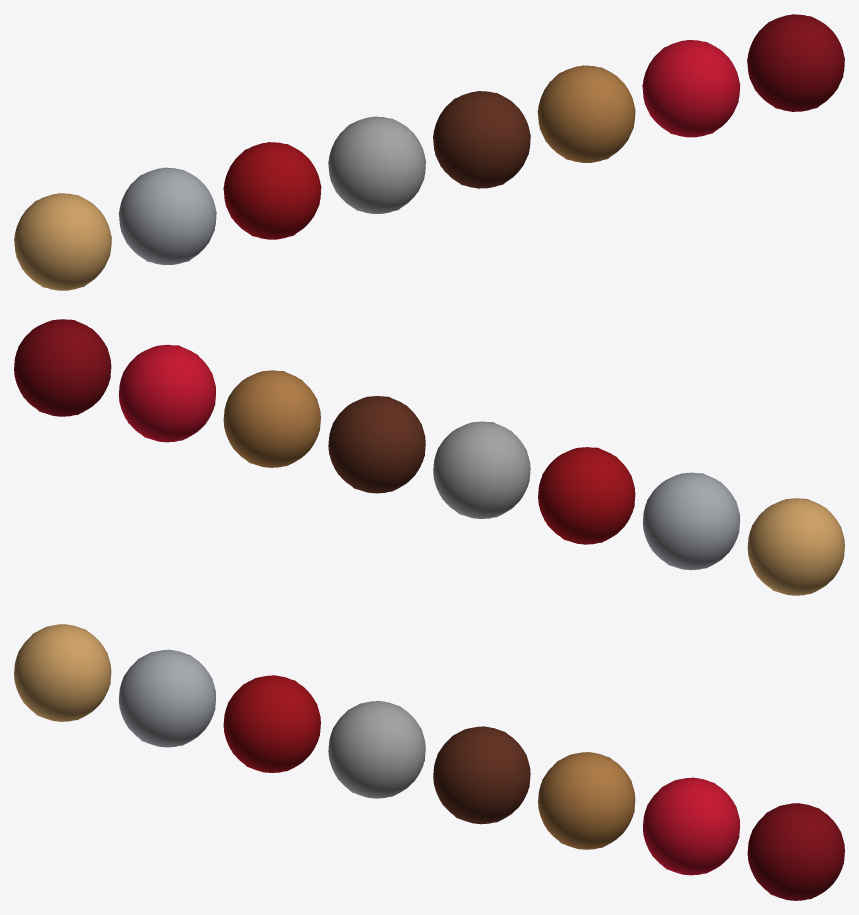
3 renders of one model, top to bottom at view 1: azimuth 30°, elevation 25°; view 2: azimuth 150°, elevation 25°; view 3: azimuth 330°, elevation 25°, orthographic.
Visible parts, largest first — view 1: lacquer (×2), saddle (×2), steel (×2), granite (×2), oak (×2), velvet (×2), ruby (×2), horse (×2); view 2: saddle (×2), horse (×2), oak (×2), granite (×2), lacquer (×2), ruby (×2), velvet (×2), steel (×2); view 3: velvet (×2), saddle (×2), oak (×2), lacquer (×2), steel (×2), ruby (×2), horse (×2), granite (×2).
Part boxes in pixels (x1,y1,x2,y2): lacquer (×2): (223, 142, 321, 239); saddle (×2): (537, 65, 635, 162); steel (×2): (118, 167, 216, 265); granite (×2): (328, 116, 425, 213); oak (×2): (14, 193, 111, 290); velvet (×2): (747, 14, 844, 111); ruby (×2): (642, 40, 740, 137); horse (×2): (433, 91, 530, 188); saddle (×2): (223, 370, 320, 467); horse (×2): (328, 396, 425, 493); oak (×2): (747, 498, 844, 595); granite (×2): (433, 421, 530, 518); lacquer (×2): (538, 447, 635, 544); ruby (×2): (119, 344, 215, 442); velvet (×2): (14, 319, 111, 416); steel (×2): (643, 472, 739, 570); velvet (×2): (747, 803, 844, 900); saddle (×2): (538, 752, 635, 849); oak (×2): (14, 624, 111, 721); lacquer (×2): (223, 675, 320, 772); steel (×2): (119, 649, 216, 747); ruby (×2): (643, 777, 740, 875); horse (×2): (433, 726, 530, 824); granite (×2): (328, 700, 425, 798).
Size of the model in its own units: 9.68 by 1 by 1.
